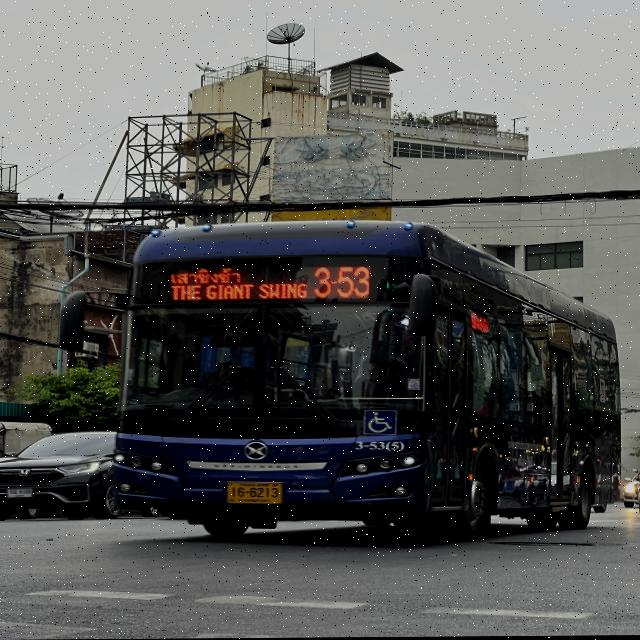Bus-Line-Number: (307, 259, 378, 304)
Destination-Sign-Normal: (160, 264, 316, 301)
TSB-Bus: (109, 219, 622, 544)
